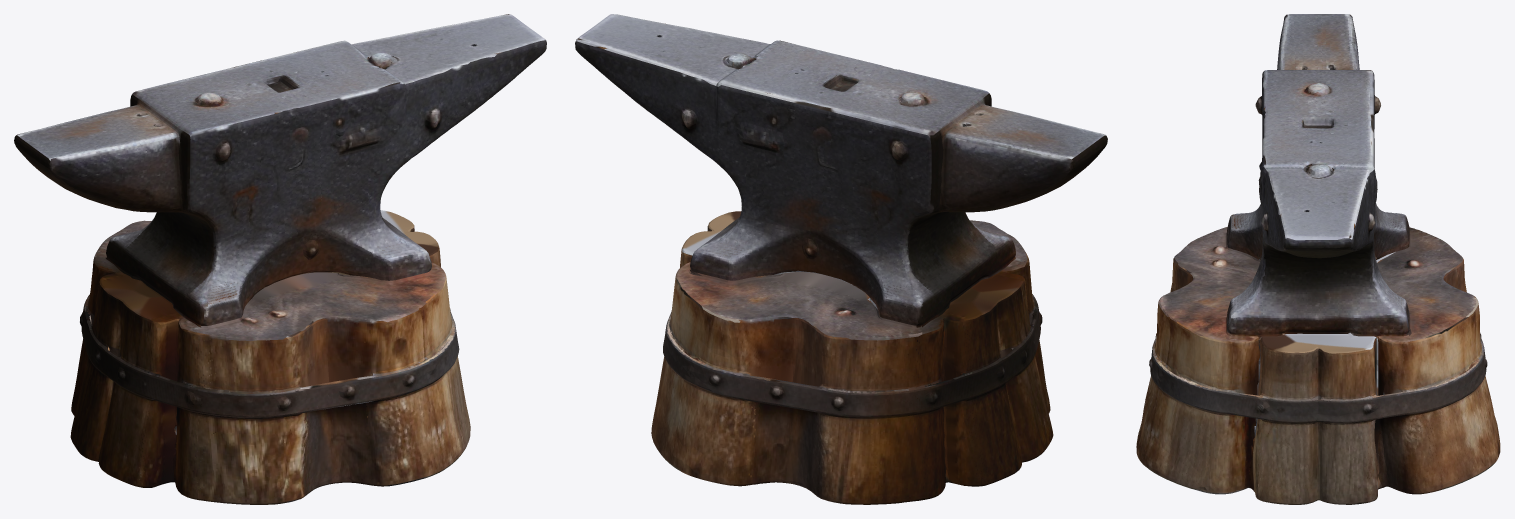
The model's file is traveler_env_coast_shinomen_smith_anvil_00001_.glb.
3 views of the same model, side by side, from view 1: azimuth 30°, elevation 25°; view 2: azimuth 150°, elevation 25°; view 3: azimuth 270°, elevation 25° (orthographic). The views are drawn at different scales.
Parts seen in each view (by area): view 1: temp_mesh.ply; view 2: temp_mesh.ply; view 3: temp_mesh.ply.
Part boxes in pixels (x1,y1,x2,y2): temp_mesh.ply: (14,14,546,504); temp_mesh.ply: (575,14,1107,504); temp_mesh.ply: (1136,14,1500,504).
Bounding box in the file's own units: 1.97 × 1.29 × 1.34.
Materials: 1 (1 with a texture image).
